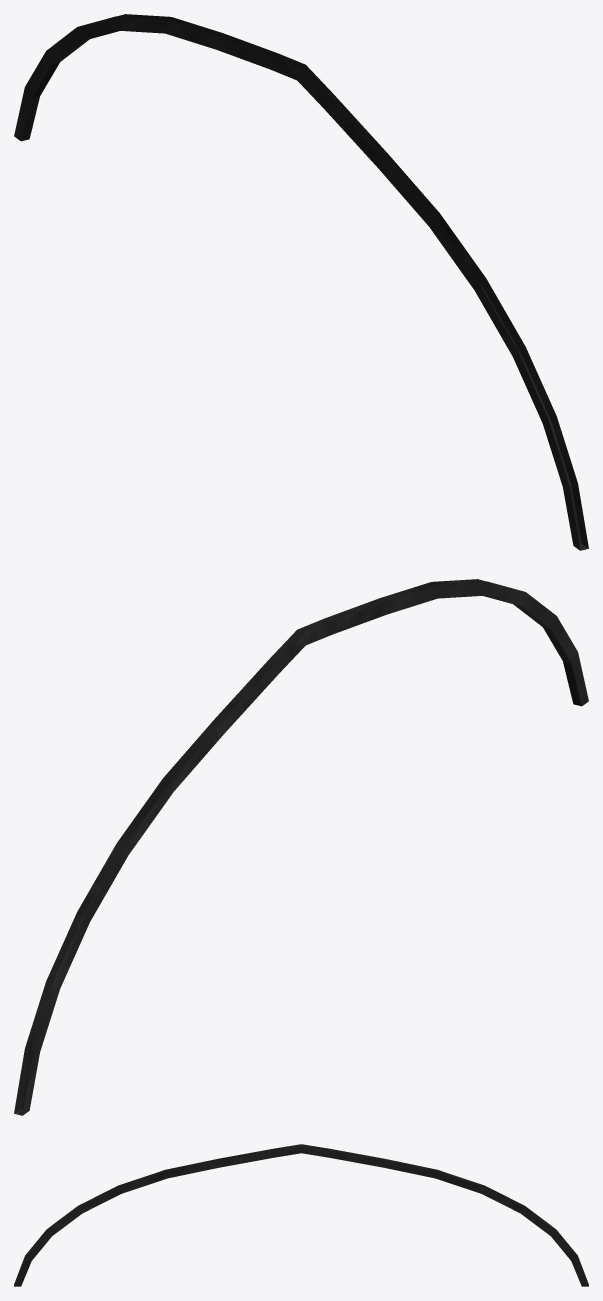
File: MDL_Archway_Large.glb
3 renders of one model, top to bottom at view 1: azimuth 30°, elevation 25°; view 2: azimuth 150°, elevation 25°; view 3: azimuth 270°, elevation 25°, orthographic. The views are drawn at different scales.
Visible parts, largest first — view 1: LargeArch; view 2: LargeArch; view 3: LargeArch.
Boxes of the visible parts, <box> form: LargeArch: <box>14,14,588,550</box>; LargeArch: <box>14,579,588,1115</box>; LargeArch: <box>14,1144,588,1286</box>.
Size of the model in its own units: 0.125 by 3.83 by 14.21.
Materials: 1 (1 with a texture image).
